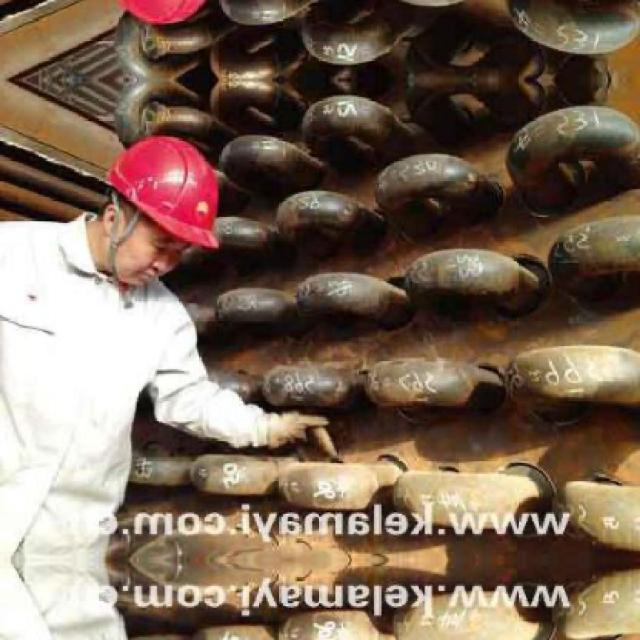helmet: (88, 123, 235, 294), (87, 0, 236, 38)
